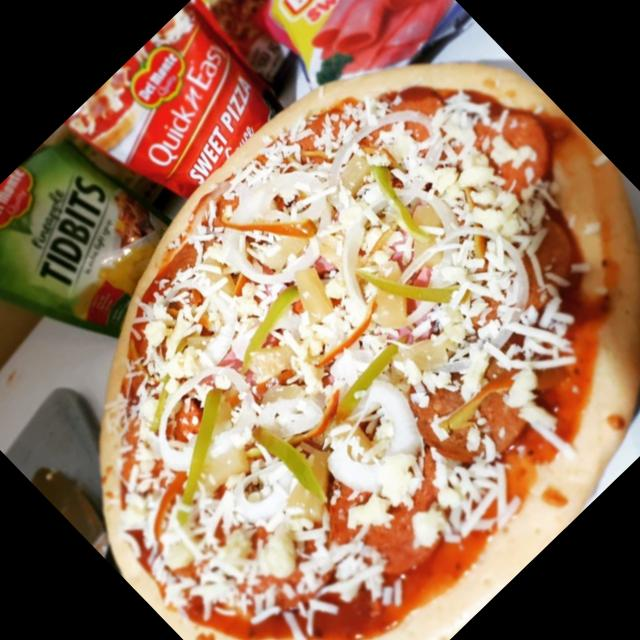pepperoni: (300, 427, 470, 596), (398, 319, 550, 472), (458, 91, 566, 199), (496, 222, 586, 310)
peppers: (206, 161, 319, 275), (140, 392, 248, 498), (358, 231, 456, 330), (223, 270, 319, 364), (246, 414, 337, 506), (363, 157, 448, 243), (332, 334, 418, 418)
pizza: (98, 62, 640, 640)
